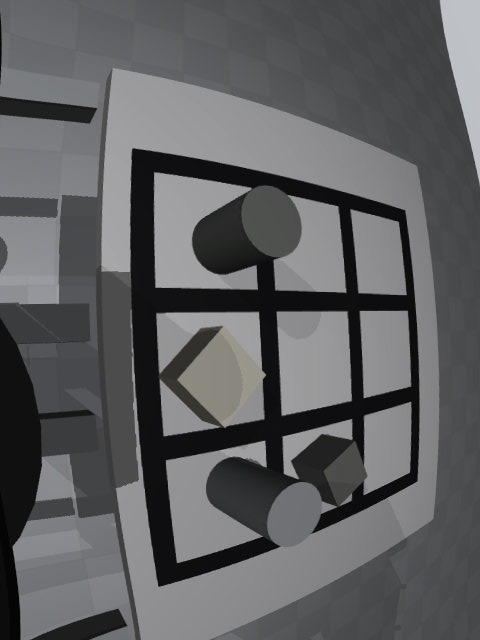can: (206, 456, 322, 547)
cube: (291, 434, 367, 507)
cylinder: (192, 185, 302, 275)
foam: (158, 325, 266, 428)
